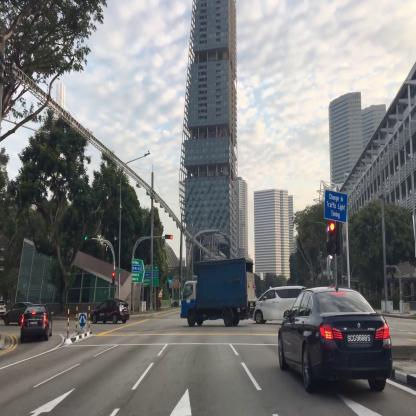red_traffic_light: (329, 222, 336, 254), (164, 234, 172, 239), (112, 272, 114, 285)
